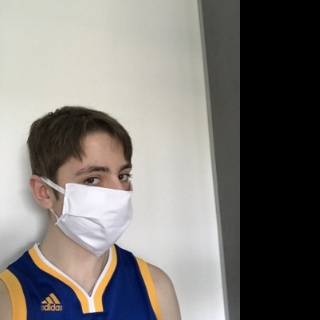with_mask: (56, 157, 135, 257)
